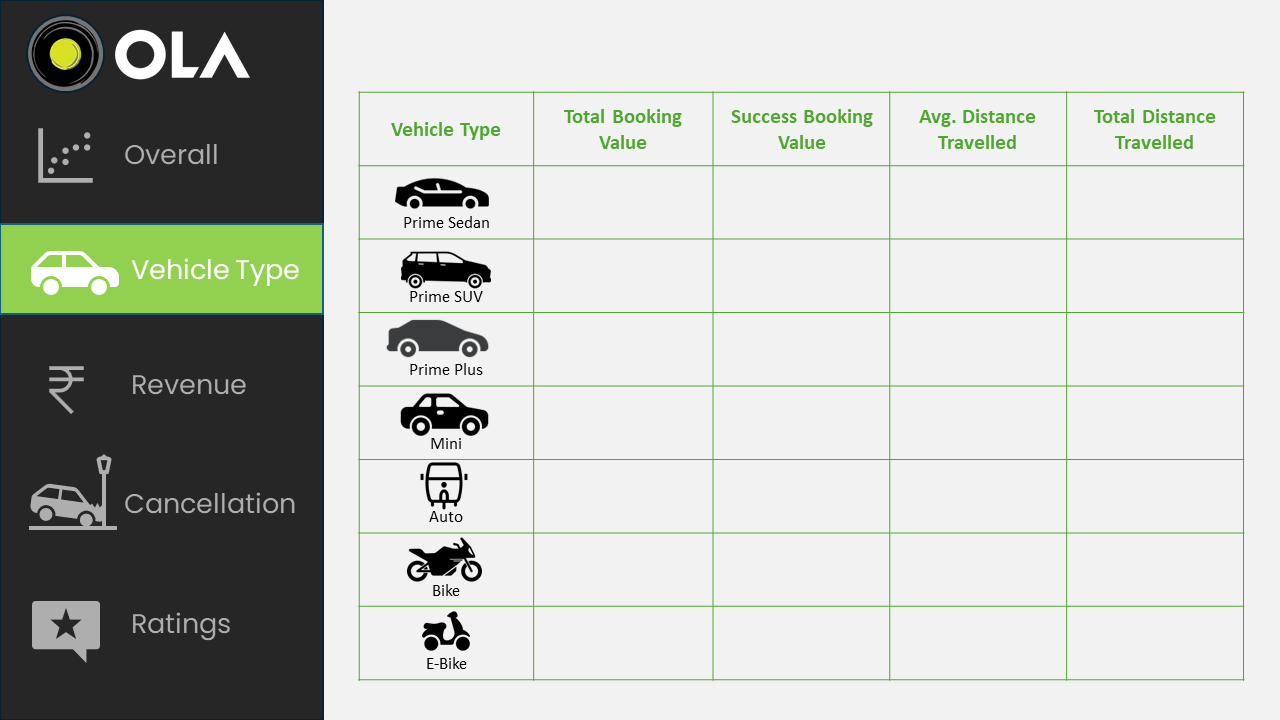

The dashboard page shown, as its layout file describes it:
{"tool":"powerbi","page":{"name":"Vehicle Type","canvas":[1280,720],"ordinal":1},"visuals":[{"type":"actionButton","box":[0,332.9,324.3,90],"z":0},{"type":"actionButton","box":[0,451.4,324.3,90],"z":1000},{"type":"actionButton","box":[0,577.1,324.3,90],"z":2000},{"type":"actionButton","box":[0,111.4,324.3,90],"z":3000},{"type":"card","fields":{"Values":["Sum(July.Booking_Value)"]},"box":[715.7,162.9,171.4,75.7],"z":4000},{"type":"card","fields":{"Values":["Sum(July.Booking_Value)"]},"box":[711.4,232.9,181.4,75.7],"z":5000},{"type":"card","fields":{"Values":["Sum(July.Booking_Value)"]},"box":[705.7,308.6,181.4,75.7],"z":6000},{"type":"card","fields":{"Values":["Sum(July.Booking_Value)"]},"box":[707.1,384.3,181.4,75.7],"z":7000},{"type":"card","fields":{"Values":["Sum(July.Booking_Value)"]},"box":[707.1,451.4,181.4,75.7],"z":8000},{"type":"card","fields":{"Values":["Sum(July.Booking_Value)"]},"box":[705.7,527.1,181.4,75.7],"z":9000},{"type":"card","fields":{"Values":["Sum(July.Booking_Value)"]},"box":[711.4,602.9,181.4,74.3],"z":10000},{"type":"card","fields":{"Values":["Sum(July.Booking_Value)"]},"box":[534.3,162.9,181.4,75.7],"z":11000},{"type":"card","fields":{"Values":["Sum(July.Booking_Value)"]},"box":[530,232.9,181.4,75.7],"z":12000},{"type":"card","fields":{"Values":["Sum(July.Booking_Value)"]},"box":[534.3,308.6,181.4,75.7],"z":13000},{"type":"card","fields":{"Values":["Sum(July.Booking_Value)"]},"box":[534.3,384.3,181.4,75.7],"z":14000},{"type":"card","fields":{"Values":["Sum(July.Booking_Value)"]},"box":[534.3,458.6,181.4,75.7],"z":15000},{"type":"card","fields":{"Values":["Sum(July.Booking_Value)"]},"box":[530,527.1,181.4,75.7],"z":16000},{"type":"card","fields":{"Values":["Sum(July.Booking_Value)"]},"box":[534.3,601.4,181.4,75.7],"z":17000},{"type":"card","fields":{"Values":["Avg(July.Ride_Distance)"]},"box":[892.9,162.9,172.9,75.7],"z":18000},{"type":"card","fields":{"Values":["Avg(July.Ride_Distance)"]},"box":[888.6,232.9,177.1,75.7],"z":19000},{"type":"card","fields":{"Values":["Avg(July.Ride_Distance)"]},"box":[887.1,382.9,178.6,75.7],"z":20000},{"type":"card","fields":{"Values":["Avg(July.Ride_Distance)"]},"box":[887.1,308.6,178.6,75.7],"z":21000},{"type":"card","fields":{"Values":["Avg(July.Ride_Distance)"]},"box":[890,460,175.7,68.6],"z":22000},{"type":"card","fields":{"Values":["Avg(July.Ride_Distance)"]},"box":[887.1,528.6,178.6,75.7],"z":23000},{"type":"card","fields":{"Values":["Avg(July.Ride_Distance)"]},"box":[888.6,604.3,177.1,75.7],"z":24000},{"type":"card","fields":{"Values":["Sum(July.Ride_Distance)"]},"box":[1065.7,162.9,172.9,75.7],"z":25000},{"type":"card","fields":{"Values":["Sum(July.Ride_Distance)"]},"box":[1065.7,238.6,177.1,70],"z":26000},{"type":"card","fields":{"Values":["Sum(July.Ride_Distance)"]},"box":[1065.7,310,178.6,75.7],"z":27000},{"type":"card","fields":{"Values":["Sum(July.Ride_Distance)"]},"box":[1065.7,382.9,178.6,75.7],"z":28000},{"type":"card","fields":{"Values":["Sum(July.Ride_Distance)"]},"box":[1064.3,458.6,180,68.6],"z":29000},{"type":"card","fields":{"Values":["Sum(July.Ride_Distance)"]},"box":[1065.7,527.1,178.6,75.7],"z":30000},{"type":"card","fields":{"Values":["Sum(July.Ride_Distance)"]},"box":[1064.3,602.9,177.1,75.7],"z":31000}]}

Visuals, with their boxes in screenshot pixels (x1, y1, x2, y2), scaled from the page's 1280x720 canvas onto the 1280x720 screenshot:
actionButton: left=0, top=333, right=324, bottom=423
actionButton: left=0, top=451, right=324, bottom=541
actionButton: left=0, top=577, right=324, bottom=667
actionButton: left=0, top=111, right=324, bottom=201
card - Sum(July.Booking_Value): left=716, top=163, right=887, bottom=239
card - Sum(July.Booking_Value): left=711, top=233, right=893, bottom=309
card - Sum(July.Booking_Value): left=706, top=309, right=887, bottom=384
card - Sum(July.Booking_Value): left=707, top=384, right=888, bottom=460
card - Sum(July.Booking_Value): left=707, top=451, right=888, bottom=527
card - Sum(July.Booking_Value): left=706, top=527, right=887, bottom=603
card - Sum(July.Booking_Value): left=711, top=603, right=893, bottom=677
card - Sum(July.Booking_Value): left=534, top=163, right=716, bottom=239
card - Sum(July.Booking_Value): left=530, top=233, right=711, bottom=309
card - Sum(July.Booking_Value): left=534, top=309, right=716, bottom=384
card - Sum(July.Booking_Value): left=534, top=384, right=716, bottom=460
card - Sum(July.Booking_Value): left=534, top=459, right=716, bottom=534
card - Sum(July.Booking_Value): left=530, top=527, right=711, bottom=603
card - Sum(July.Booking_Value): left=534, top=601, right=716, bottom=677
card - Avg(July.Ride_Distance): left=893, top=163, right=1066, bottom=239
card - Avg(July.Ride_Distance): left=889, top=233, right=1066, bottom=309
card - Avg(July.Ride_Distance): left=887, top=383, right=1066, bottom=459
card - Avg(July.Ride_Distance): left=887, top=309, right=1066, bottom=384
card - Avg(July.Ride_Distance): left=890, top=460, right=1066, bottom=529
card - Avg(July.Ride_Distance): left=887, top=529, right=1066, bottom=604
card - Avg(July.Ride_Distance): left=889, top=604, right=1066, bottom=680
card - Sum(July.Ride_Distance): left=1066, top=163, right=1239, bottom=239
card - Sum(July.Ride_Distance): left=1066, top=239, right=1243, bottom=309
card - Sum(July.Ride_Distance): left=1066, top=310, right=1244, bottom=386
card - Sum(July.Ride_Distance): left=1066, top=383, right=1244, bottom=459
card - Sum(July.Ride_Distance): left=1064, top=459, right=1244, bottom=527
card - Sum(July.Ride_Distance): left=1066, top=527, right=1244, bottom=603
card - Sum(July.Ride_Distance): left=1064, top=603, right=1241, bottom=679
